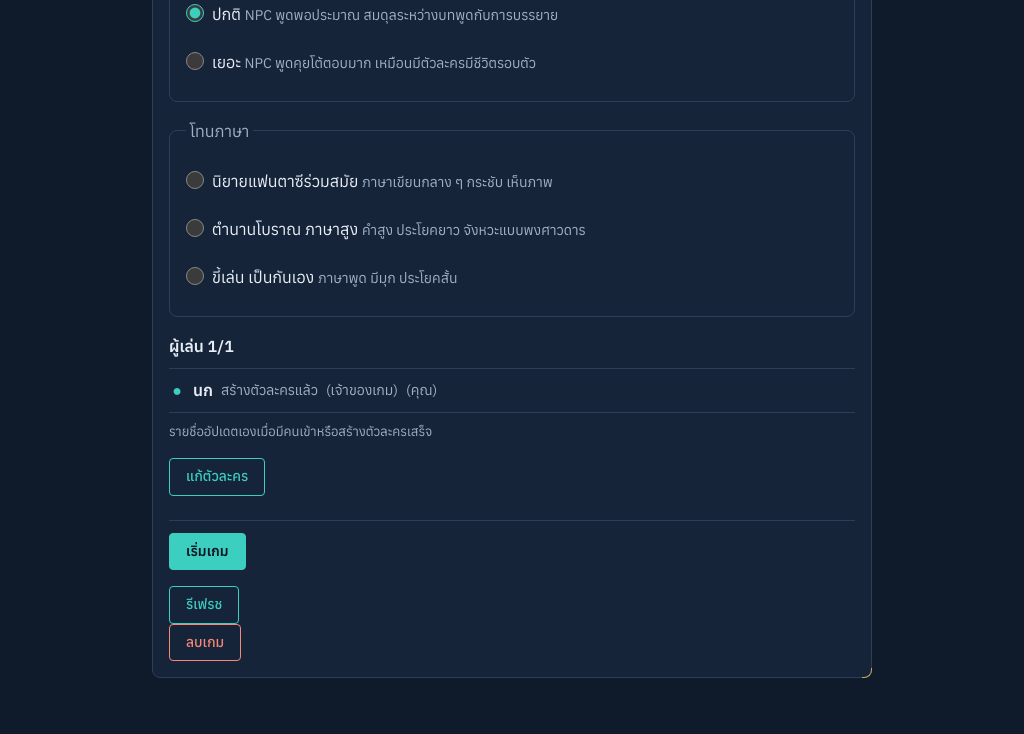
Test: Character loot step (GEN-048) › C1: the AI offer is shown; picking one skill + one item saves them and shows Rank B + how it is used
The width and height of the screenshot is (1024, 734).
(page scrolled)
What coordinates should you click on to do the following:
click the button "แก้ตัวละคร"
I would click on:
 (217, 477)
Its box is [169,458,265,496].
(page scrolled)
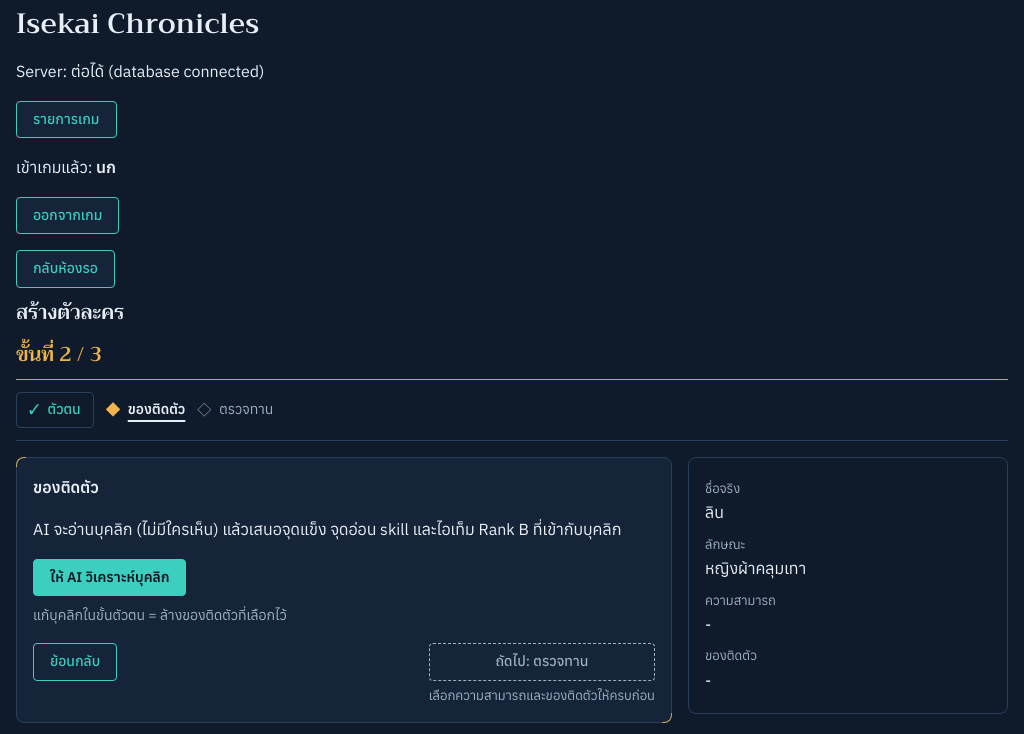
What coordinates should you click on to do the following:
click the button "ให้ AI วิเคราะห์บุคลิก"
I would click on:
 (110, 578)
Its box is [33,559,186,596].
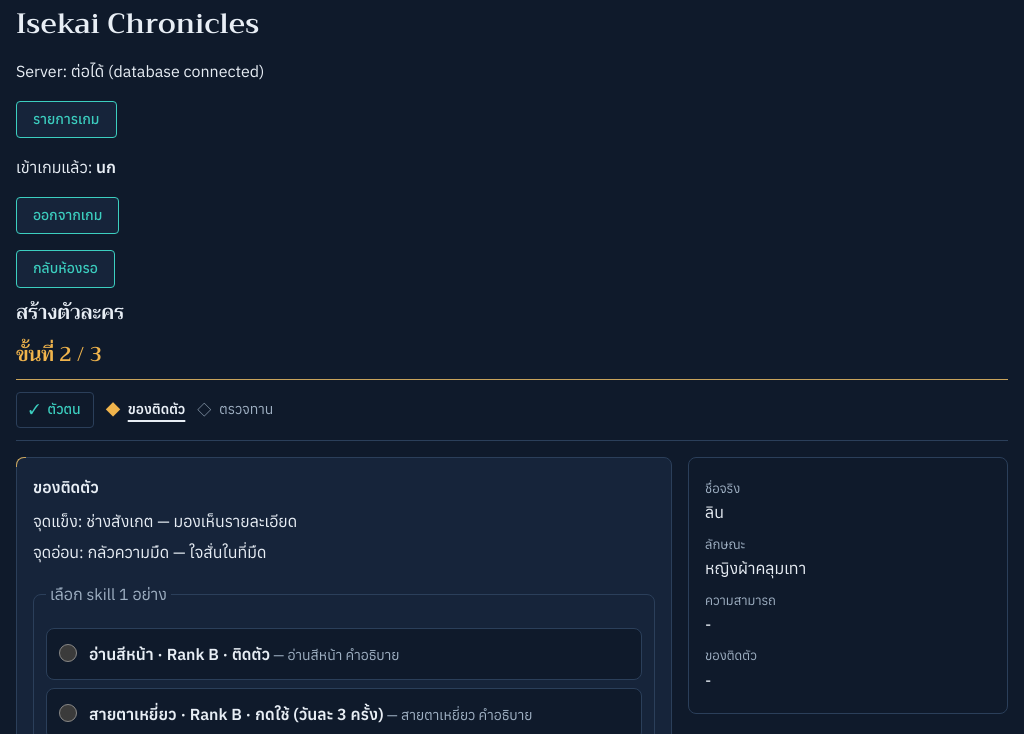
Result: the text "จุดแข็ง: ช่างสังเกต — มองเห็นรายละเอียด" is shown at [33,511,297,531]
Result: the text "จุดอ่อน: กลัวความมืด — ใจสั่นในที่มืด" is shown at [33,542,266,562]
Result: the radio button labelled "สายตาเหยี่ยว · Rank B · กดใช้ (วันละ 3 ครั้ง)" is shown
What coordinates should you click on to do the following:
click the radio button labelled "สายตาเหยี่ยว"
I would click on:
 (68, 713)
Its box is [59,704,77,722].
(page scrolled)
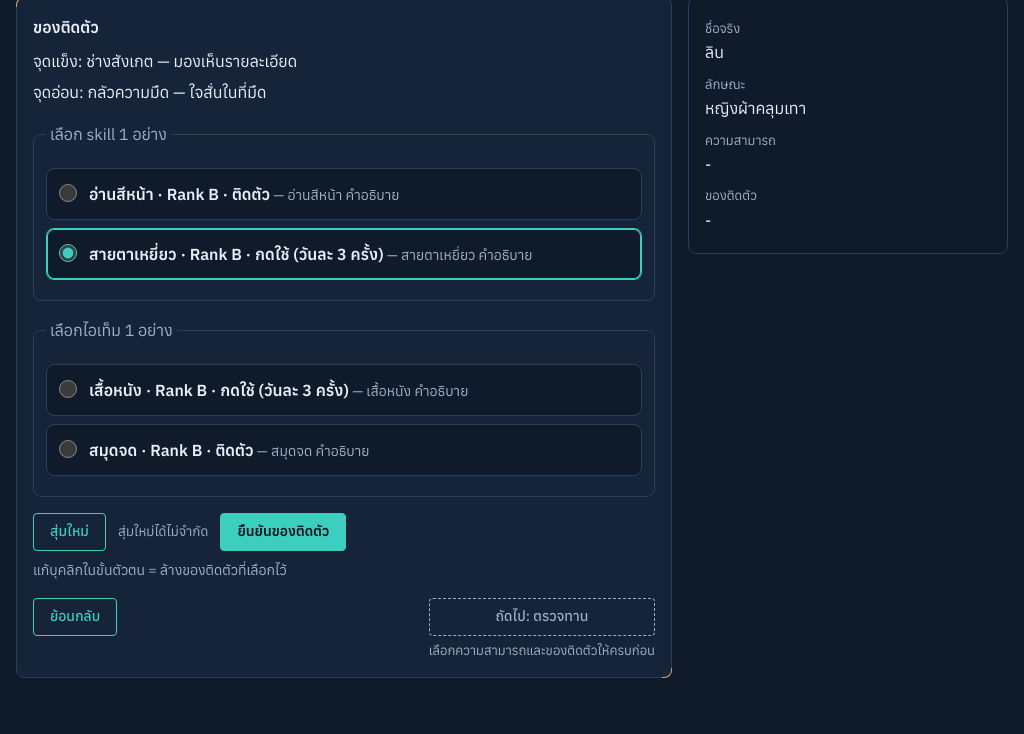
What coordinates should you click on to do the following:
click the radio button labelled "สมุดจด · Rank B · ติดตัว — สมุดจด คำอธิบาย"
I would click on:
 (68, 449)
Its box is [59,440,77,458].
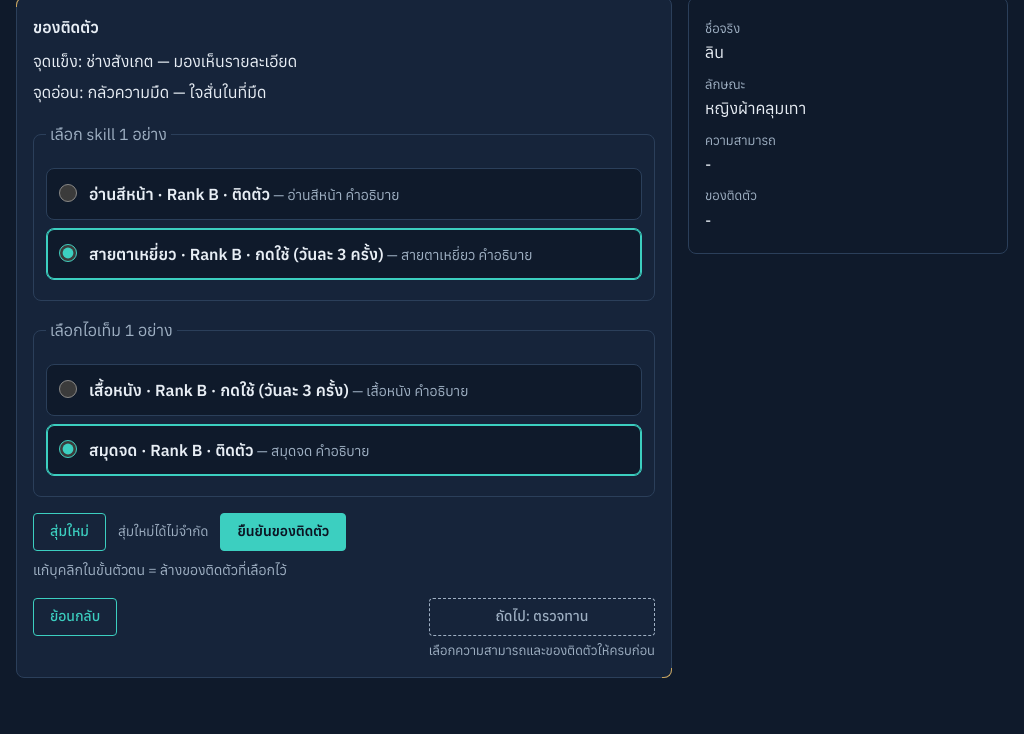
What coordinates should you click on to do the following:
click the button "ยืนยันของติดตัว"
I would click on:
 (283, 532)
Its box is [220,514,346,551].
(page scrolled)
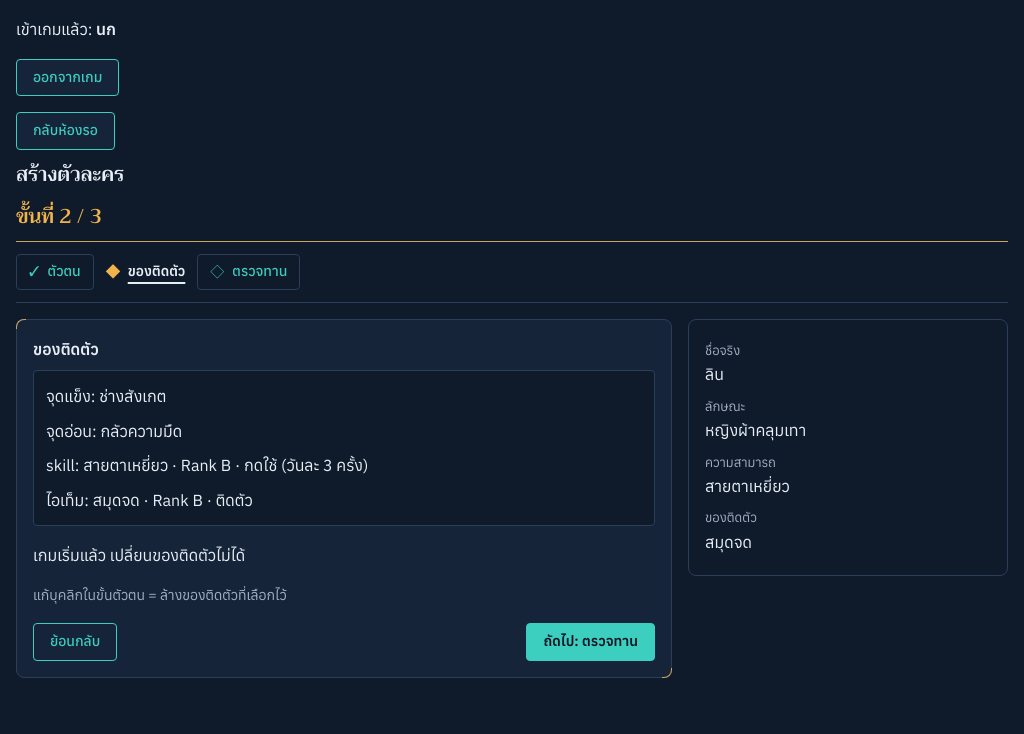
Result: the list named "ของติดตัวที่เลือก" shows "สายตาเหยี่ยว · Rank B · กดใช้" at [83,455,368,475]
Result: the list named "ของติดตัวที่เลือก" shows "สมุดจด · Rank B · ติดตัว" at [93,490,253,510]
